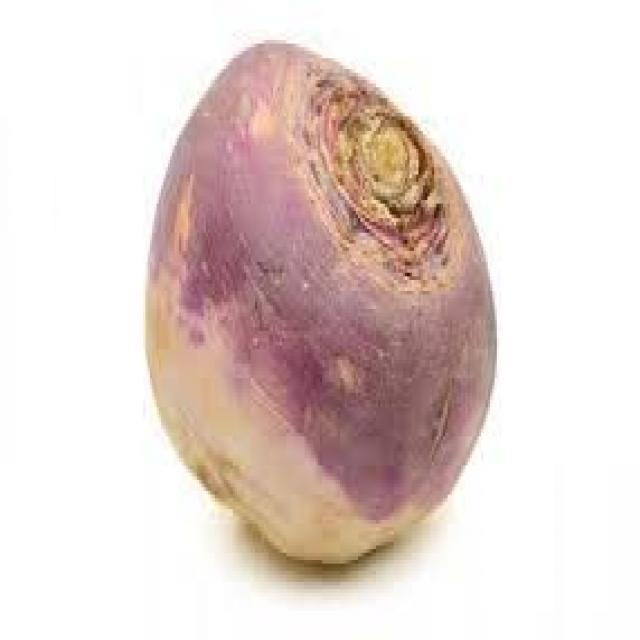organic waste: (143, 36, 495, 560)
